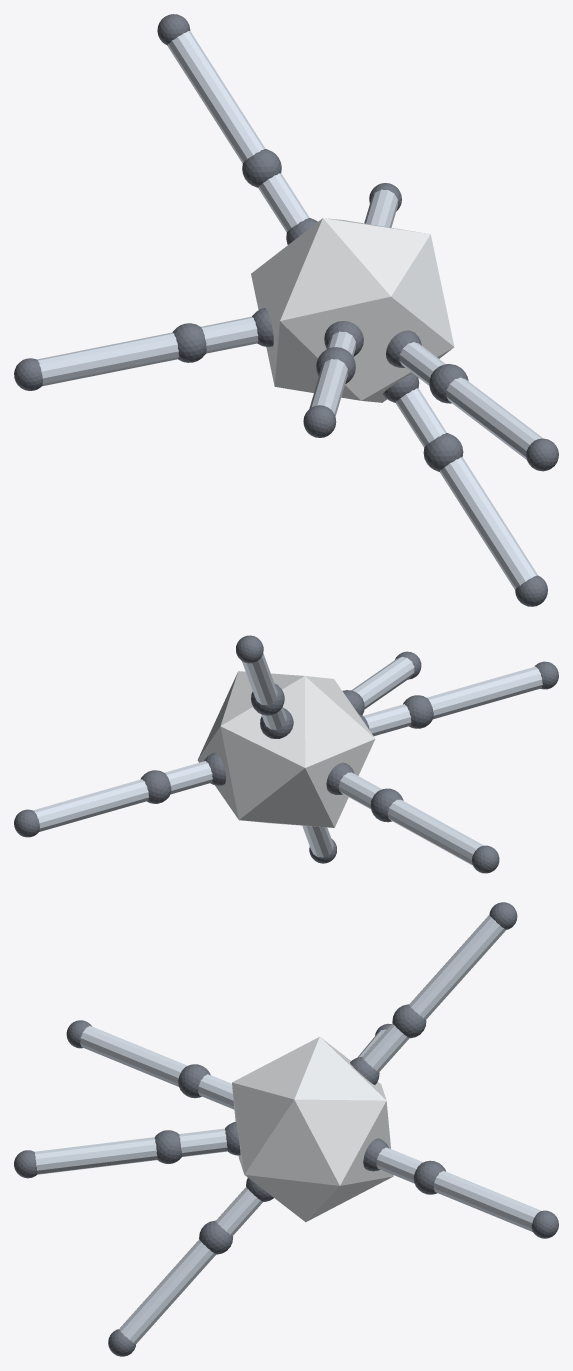
The model's file is g0_222222_0_abs.glb.
3 views of the same model, one above another, from view 1: azimuth 30°, elevation 25°; view 2: azimuth 150°, elevation 25°; view 3: azimuth 270°, elevation 25° (orthographic). The views are drawn at different scales.
Visible parts, largest first — view 1: geom_0, geom_24, geom_14, geom_4, geom_29, geom_22, geom_12, geom_2, geom_9, geom_27, geom_13, geom_23 (+7 smaller); view 2: geom_0, geom_9, geom_19, geom_4, geom_29, geom_24, geom_17, geom_7, geom_2, geom_18, geom_8, geom_14 (+11 smaller); view 3: geom_0, geom_29, geom_24, geom_14, geom_9, geom_19, geom_27, geom_12, geom_22, geom_17, geom_7, geom_23 (+6 smaller).
Part boxes in pixels (box(x1,y1,x2,y2)): geom_0: box(251, 218, 454, 402); geom_24: box(167, 31, 265, 163); geom_14: box(440, 457, 537, 589); geom_4: box(37, 332, 179, 386); geom_29: box(446, 377, 543, 459); geom_22: box(258, 173, 309, 232); geom_12: box(395, 388, 446, 447); geom_2: box(201, 316, 258, 353); geom_9: box(309, 359, 347, 416); geom_27: box(399, 342, 445, 385); geom_13: box(423, 433, 463, 471); geom_23: box(242, 149, 281, 187); geom_0: box(197, 671, 375, 827); geom_9: box(427, 666, 542, 719); geom_19: box(33, 779, 149, 831); geom_4: box(387, 799, 483, 865); geom_29: box(351, 657, 414, 709); geom_24: box(242, 653, 277, 705); geom_17: box(164, 761, 212, 794); geom_7: box(363, 704, 411, 736); geom_2: box(338, 772, 381, 809); geom_18: box(140, 770, 171, 803); geom_8: box(403, 695, 433, 728); geom_14: box(302, 825, 333, 857); geom_0: box(232, 1036, 393, 1222); geom_29: box(34, 1137, 157, 1174); geom_24: box(409, 915, 506, 1019); geom_14: box(119, 1239, 215, 1344); geom_9: box(80, 1026, 187, 1086); geom_19: box(433, 1171, 540, 1231); geom_27: box(179, 1128, 227, 1156); geom_12: box(215, 1187, 262, 1235); geom_22: box(362, 1023, 409, 1072); geom_17: box(376, 1147, 422, 1183); geom_7: box(198, 1074, 234, 1109); geom_23: box(392, 1004, 426, 1038).
Size of the model in its own units: 0.399 by 0.37 by 0.4625.
